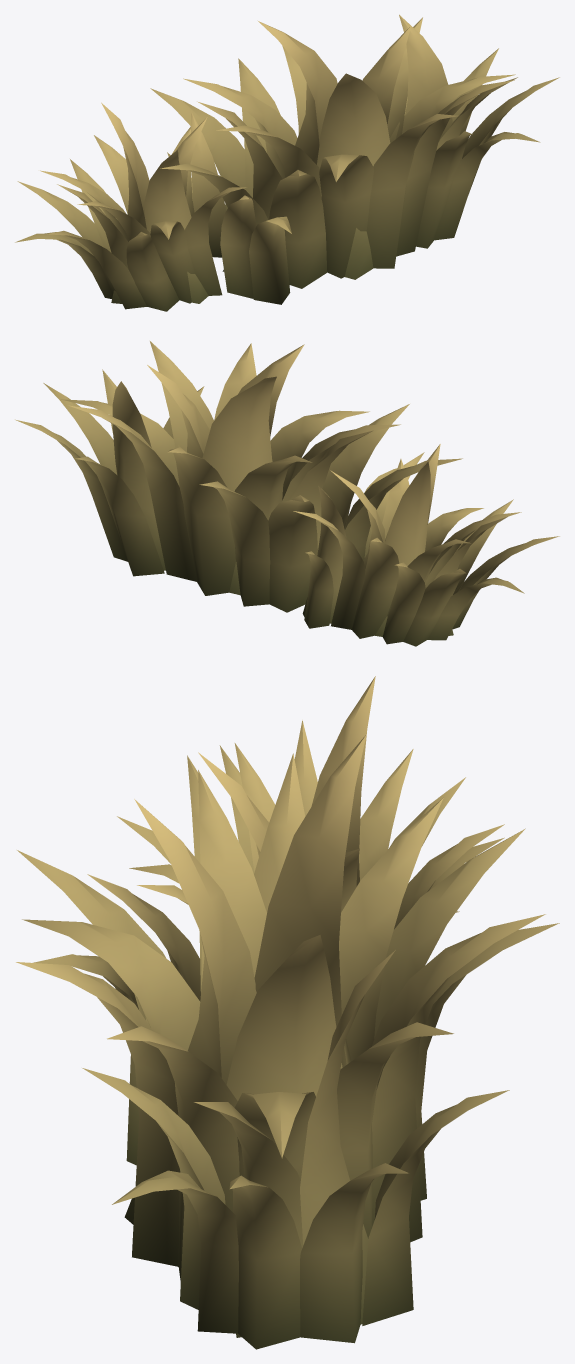
File: PLANT_C.fbx
3 renders of one model, top to bottom at view 1: azimuth 30°, elevation 25°; view 2: azimuth 150°, elevation 25°; view 3: azimuth 270°, elevation 25°, orthographic. The views are drawn at different scales.
Visible parts, largest first — view 1: PLANT_C; view 2: PLANT_C; view 3: PLANT_C.
Part boxes in pixels (bbox=[...]): PLANT_C: bbox=[15, 14, 559, 311]; PLANT_C: bbox=[15, 341, 559, 646]; PLANT_C: bbox=[16, 676, 559, 1349].
Bounding box in the file's own units: 1.93 × 0.8254 × 0.8836.
